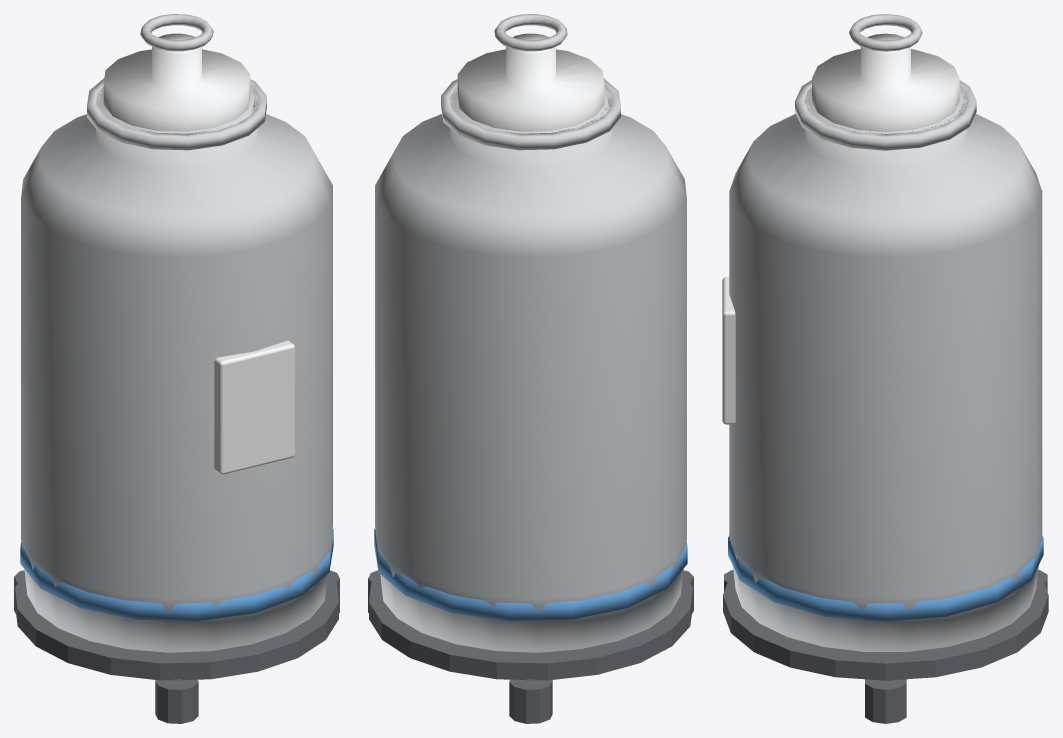
File: liquid-nitrogen-dewar.glb
3 views of the same model, side by side, from view 1: azimuth 30°, elevation 25°; view 2: azimuth 150°, elevation 25°; view 3: azimuth 270°, elevation 25° (orthographic).
Parts seen in each view (by area): view 1: liquid-nitrogen-dewar, plug/white, plug/steel; view 2: liquid-nitrogen-dewar, plug/white, plug/steel; view 3: liquid-nitrogen-dewar, plug/white, plug/steel.
Part boxes in pixels (left/top/right/bottom): liquid-nitrogen-dewar: left=14, top=78, right=339, bottom=723; plug/white: left=103, top=33, right=250, bottom=131; plug/steel: left=140, top=14, right=213, bottom=51; liquid-nitrogen-dewar: left=368, top=78, right=693, bottom=723; plug/white: left=457, top=33, right=604, bottom=131; plug/steel: left=494, top=14, right=567, bottom=51; liquid-nitrogen-dewar: left=722, top=80, right=1048, bottom=723; plug/white: left=812, top=33, right=959, bottom=132; plug/steel: left=849, top=14, right=922, bottom=51.
Bounding box in the file's own units: 0.555 × 1.09 × 0.521.
